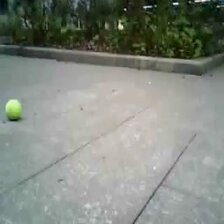tennis: (6, 100, 22, 120)
